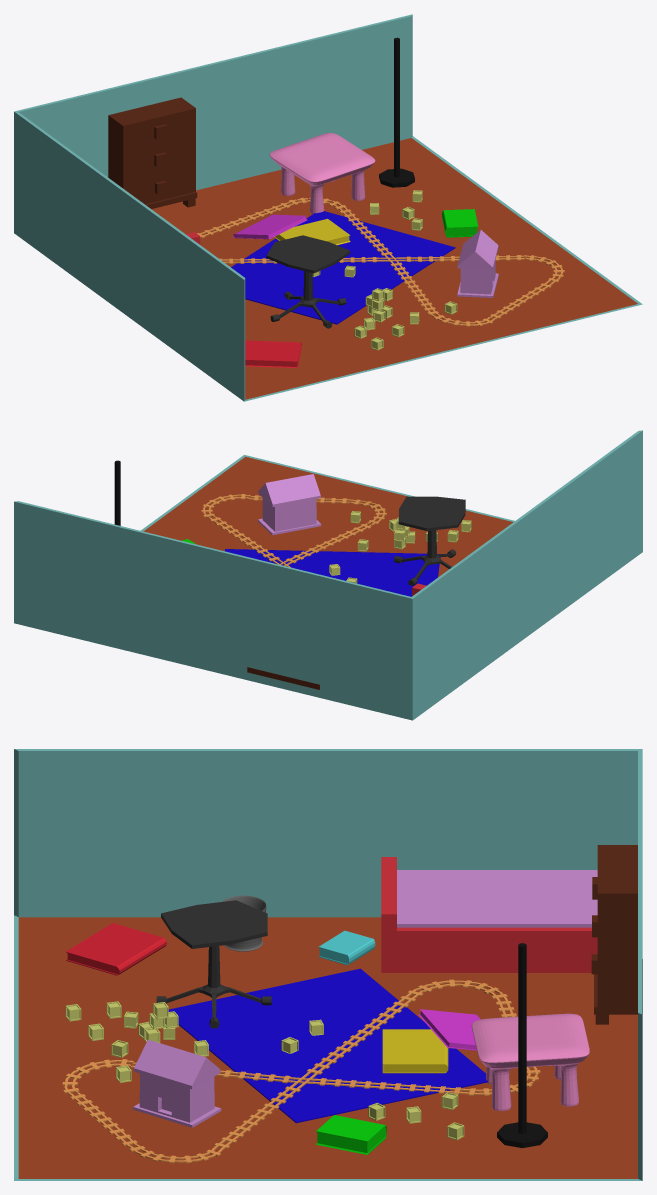
Rendered from Room.fbx.
3 renders of one model, top to bottom at view 1: azimuth 30°, elevation 25°; view 2: azimuth 150°, elevation 25°; view 3: azimuth 270°, elevation 25°, orthographic. The views are drawn at different scales.
Visible parts, largest first — view 1: Plane, Plane.003, Plane.002, Cube.005, Cube.006, tracks.007, Cylinder, Cube, Cube.000, Cylinder.001, Cube.004, Cube.001 (+2 smaller); view 2: Plane, Plane.003, Plane.002, Cube, Cylinder, tracks.007, Cylinder.001, Cube.005; view 3: Plane, Plane.003, Plane.002, Cube.008, Cube.007, Cube.005, tracks.007, Cube.006, Cube, Cylinder, Cube.000, Cube.001 (+6 smaller).
Part boxes in pixels (x1,y1,x2,y2): Plane: (14, 14, 642, 401); Plane.003: (151, 138, 637, 399); Plane.002: (232, 212, 451, 322); Cube.005: (108, 97, 197, 208); Cube.006: (269, 133, 375, 213); tracks.007: (197, 197, 564, 326); Cylinder: (266, 235, 350, 328); Cube: (457, 230, 498, 297); Cube.000: (245, 340, 301, 368); Cylinder.001: (379, 37, 414, 187); Cube.004: (233, 214, 307, 239); Cube.001: (274, 218, 350, 245); Plane: (14, 430, 642, 720); Plane.003: (143, 456, 513, 577); Plane.002: (227, 550, 436, 596); Cube: (258, 474, 321, 535); Cylinder: (394, 496, 465, 585); tracks.007: (201, 494, 386, 567); Cylinder.001: (114, 460, 120, 525); Cube.005: (247, 667, 319, 689); Plane: (14, 749, 642, 1180); Plane.003: (18, 917, 637, 1178); Plane.002: (168, 970, 486, 1120); Cube.008: (397, 870, 597, 927); Cube.007: (381, 857, 597, 972); Cube.005: (591, 845, 642, 1024); tracks.007: (62, 979, 540, 1163); Cube.006: (471, 1013, 589, 1110); Cube: (133, 1039, 221, 1127); Cylinder: (156, 900, 271, 1028); Cube.000: (66, 923, 166, 975); Cube.001: (382, 1029, 448, 1073).
Bounding box in the file's own units: 3000 × 1036 × 3001.
